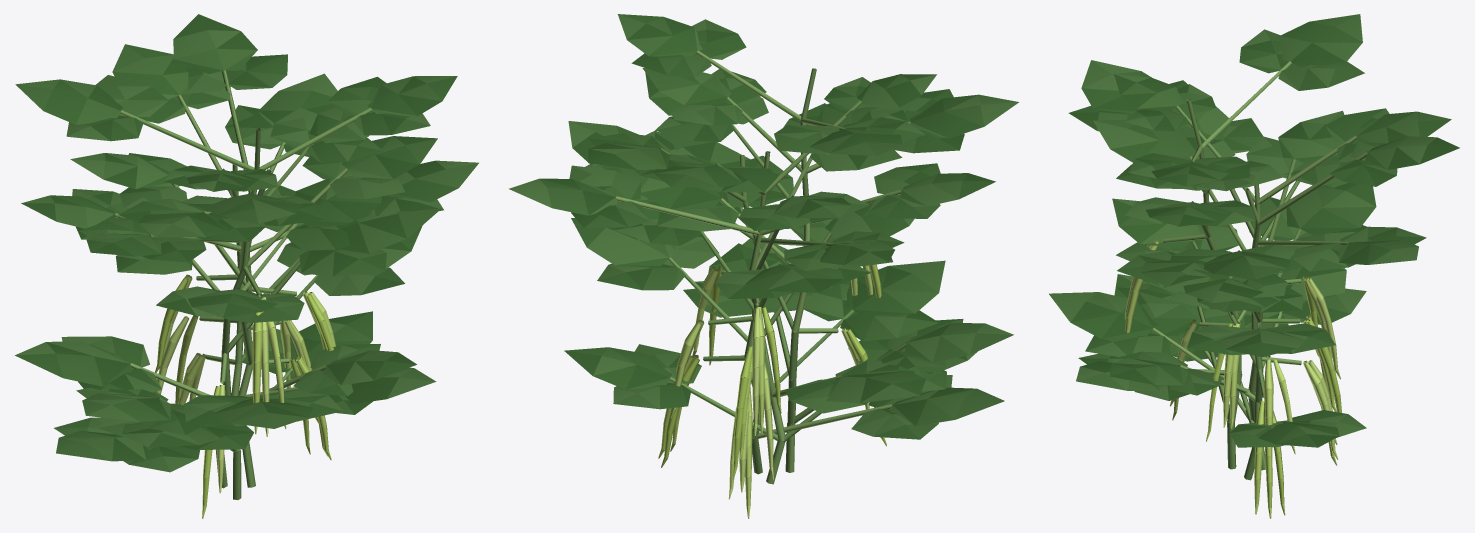
File: haricot_vert_mur.glb
The picture shows the model from 3 angles, left to right: view 1: azimuth 30°, elevation 25°; view 2: azimuth 150°, elevation 25°; view 3: azimuth 270°, elevation 25°; orthographic projection. The views are drawn at different scales.
Parts seen in each view (by area): view 1: Haricot_Feuilles, Haricot_Tiges, Haricot_Gousses; view 2: Haricot_Feuilles, Haricot_Tiges, Haricot_Gousses; view 3: Haricot_Feuilles, Haricot_Tiges, Haricot_Gousses.
Part boxes in pixels (box(x1,y1,x2,y2)): Haricot_Feuilles: box(15, 14, 478, 472); Haricot_Tiges: box(115, 70, 383, 499); Haricot_Gousses: box(155, 274, 335, 518); Haricot_Feuilles: box(509, 14, 1018, 439); Haricot_Tiges: box(615, 50, 910, 484); Haricot_Gousses: box(658, 264, 886, 518); Haricot_Feuilles: box(1049, 14, 1459, 447); Haricot_Tiges: box(1152, 61, 1368, 480); Haricot_Gousses: box(1124, 238, 1341, 518).
Bounding box in the file's own units: 0.4983 × 0.4498 × 0.4347.
